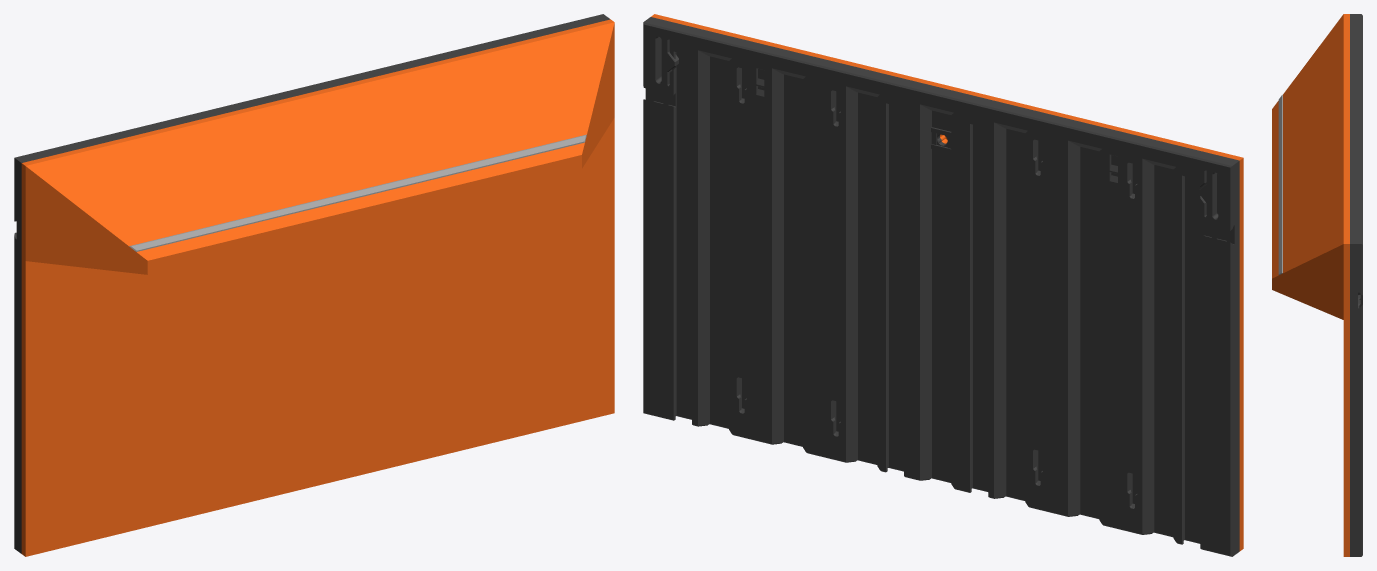
File: Faceplate_ClassicDecor_2W-2H.lib.glb
3 views of the same model, side by side, from view 1: azimuth 30°, elevation 25°; view 2: azimuth 150°, elevation 25°; view 3: azimuth 270°, elevation 25° (orthographic). The views are drawn at different scales.
Visible parts, largest first — view 1: Faceplate_ClassicDecor_2W-2H; view 2: Faceplate_ClassicDecor_2W-2H; view 3: Faceplate_ClassicDecor_2W-2H.
Boxes of the visible parts, left/top/right/bottom form: Faceplate_ClassicDecor_2W-2H: left=14, top=14, right=614, bottom=556; Faceplate_ClassicDecor_2W-2H: left=643, top=14, right=1243, bottom=556; Faceplate_ClassicDecor_2W-2H: left=1272, top=14, right=1362, bottom=556.
Bounding box in the file's own units: 175 × 111 × 29.2.
